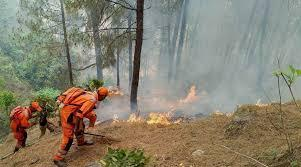fire: (112, 110, 181, 125), (169, 82, 208, 108), (108, 86, 123, 96)
yanwu: (108, 0, 301, 117)
